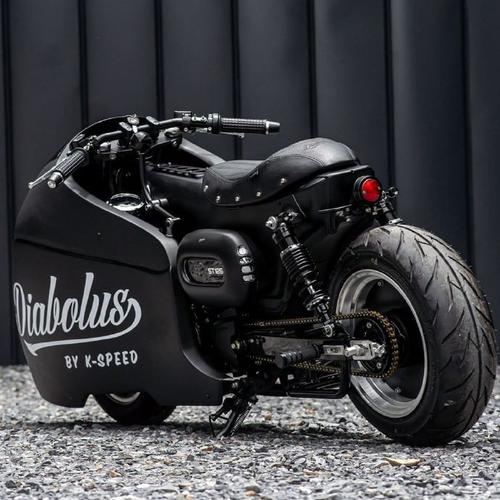摩托车: (15, 113, 500, 452)
